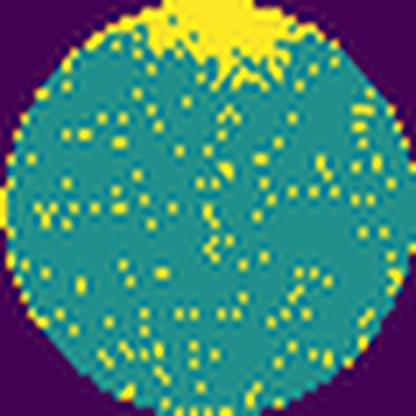Edge-Loc: (81, 0, 318, 90)
